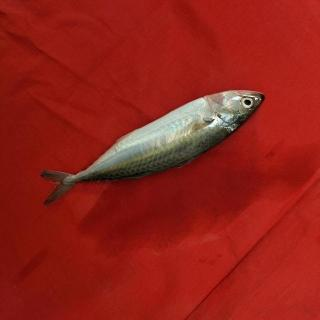Ikan: (30, 60, 272, 216)
